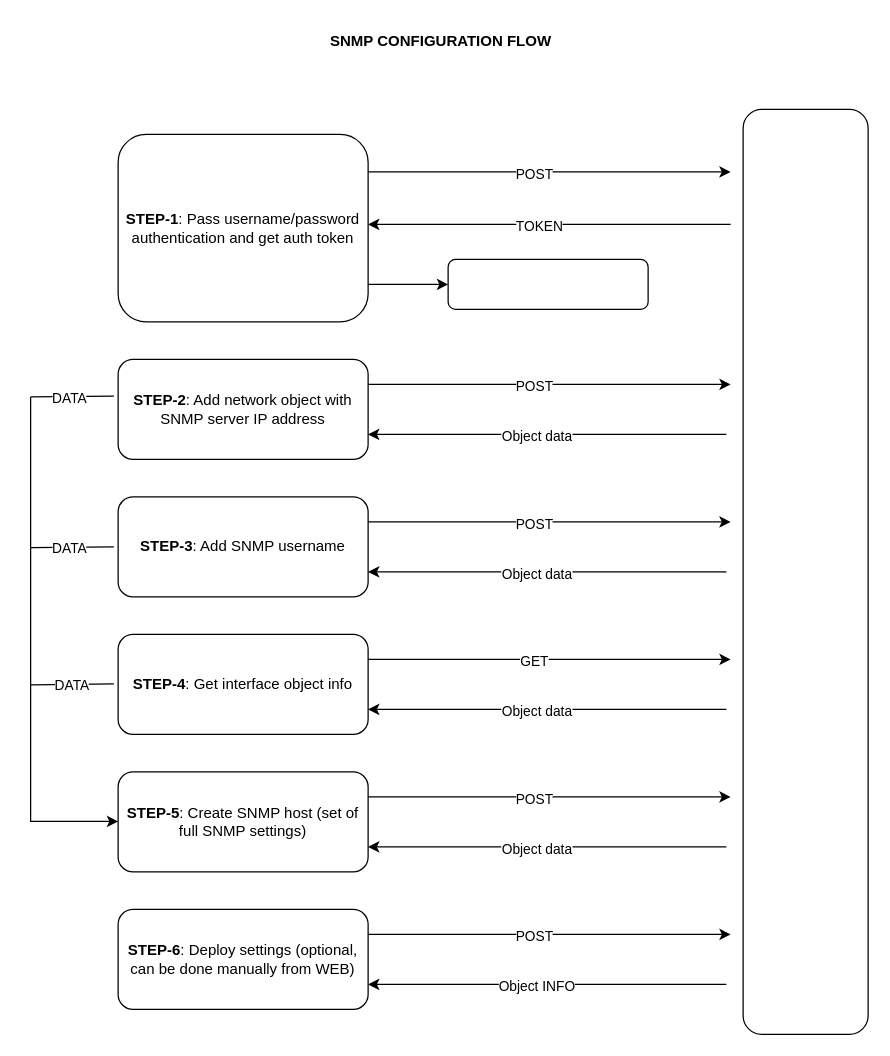
Image size: 890x1056. Some labels were removed from this diagram. Here are the shapes that lost their labels. From the top down, the centre of each, then its label:
At point (547, 283): "Save token in temp directory (valid for 30 min)".
At point (805, 571): "Cisco FDM".
